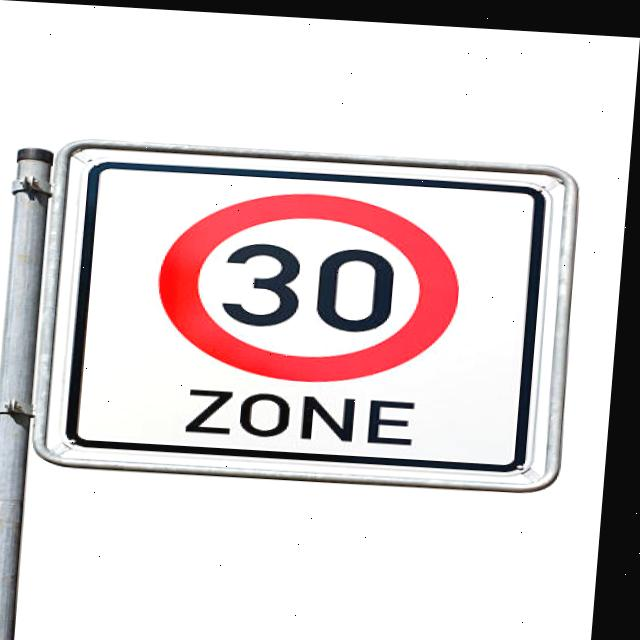Speed limit 30: (42, 136, 587, 488)
